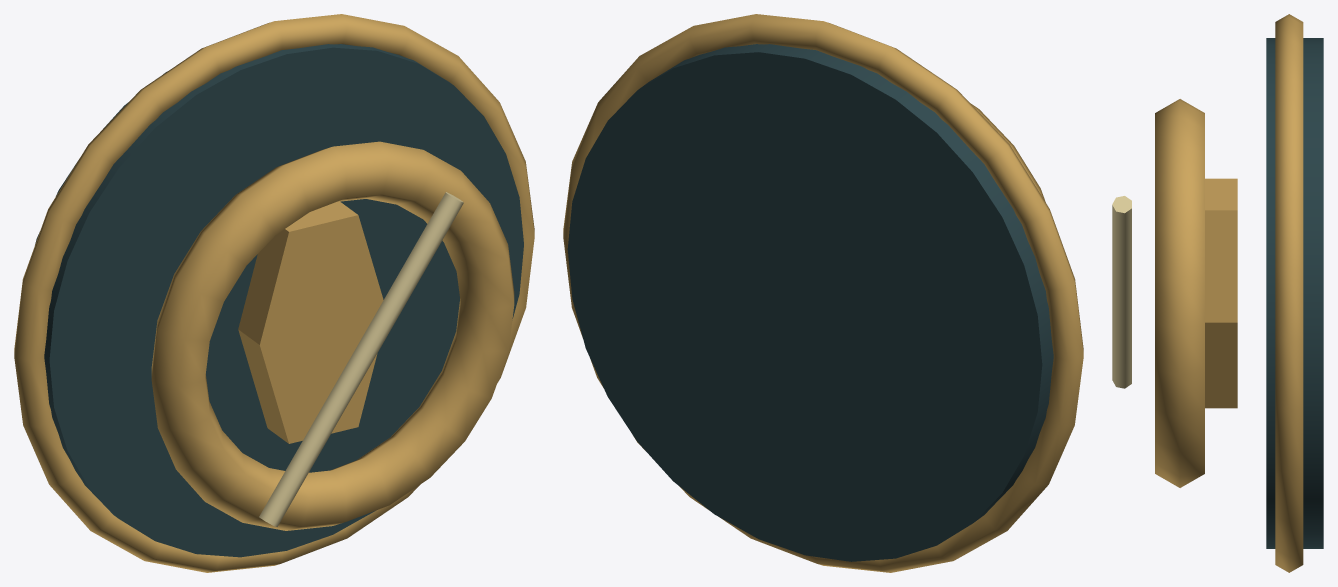
The model's file is gold.fbx.
3 views of the same model, side by side, from view 1: azimuth 30°, elevation 25°; view 2: azimuth 150°, elevation 25°; view 3: azimuth 270°, elevation 25° (orthographic). The views are drawn at different scales.
Visible parts, largest first — view 1: gold; view 2: gold; view 3: gold.
Part boxes in pixels (x1,y1,x2,y2): gold: (14, 14, 534, 572); gold: (563, 14, 1083, 572); gold: (1112, 14, 1323, 572).
Bounding box in the file's own units: 0.976 × 0.976 × 0.368.
